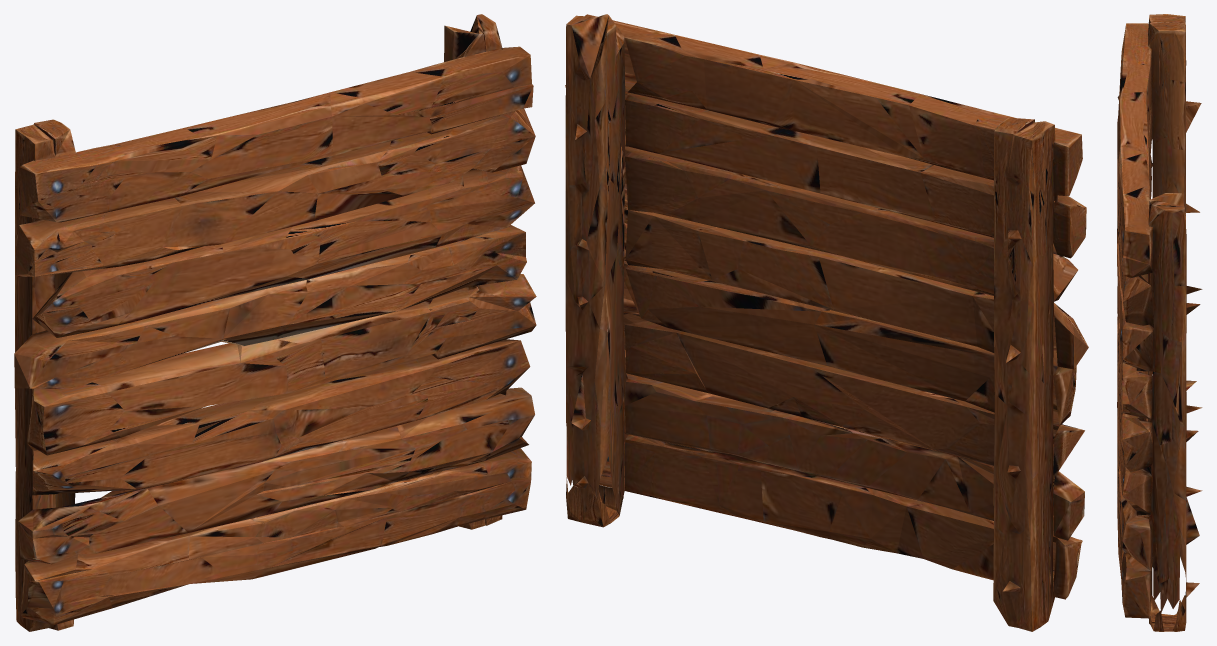
File: fence_tall.glb
3 renders of one model, left to right at view 1: azimuth 30°, elevation 25°; view 2: azimuth 150°, elevation 25°; view 3: azimuth 270°, elevation 25°, orthographic. The views are drawn at different scales.
Visible parts, largest first — view 1: tripo_part_7, tripo_part_3, tripo_part_0, tripo_part_1, tripo_part_4, tripo_part_8, tripo_part_5, tripo_part_6, tripo_part_2; view 2: tripo_part_3, tripo_part_2, tripo_part_7, tripo_part_0, tripo_part_4, tripo_part_1, tripo_part_5, tripo_part_6, tripo_part_8, tripo_part_9; view 3: tripo_part_3, tripo_part_7, tripo_part_2, tripo_part_5, tripo_part_1, tripo_part_4, tripo_part_0, tripo_part_6, tripo_part_8, tripo_part_9.
Boxes of the visible parts, bbox=[...] form: tripo_part_7: bbox=[19, 46, 533, 222]; tripo_part_3: bbox=[18, 14, 534, 564]; tripo_part_0: bbox=[21, 448, 531, 625]; tripo_part_1: bbox=[27, 274, 536, 455]; tripo_part_4: bbox=[15, 108, 535, 276]; tripo_part_8: bbox=[32, 339, 530, 495]; tripo_part_5: bbox=[32, 165, 534, 337]; tripo_part_6: bbox=[14, 225, 526, 388]; tripo_part_2: bbox=[15, 119, 75, 631]; tripo_part_3: bbox=[565, 14, 1084, 540]; tripo_part_2: bbox=[993, 117, 1065, 631]; tripo_part_7: bbox=[585, 14, 1082, 195]; tripo_part_0: bbox=[599, 433, 1082, 599]; tripo_part_4: bbox=[565, 85, 1086, 258]; tripo_part_1: bbox=[623, 255, 1076, 430]; tripo_part_5: bbox=[624, 146, 1077, 301]; tripo_part_6: bbox=[624, 199, 1088, 369]; tripo_part_8: bbox=[623, 313, 1084, 478]; tripo_part_9: bbox=[566, 477, 624, 527]; tripo_part_3: bbox=[1117, 193, 1202, 612]; tripo_part_7: bbox=[1117, 23, 1152, 278]; tripo_part_2: bbox=[1148, 14, 1202, 413]; tripo_part_5: bbox=[1117, 155, 1154, 371]; tripo_part_1: bbox=[1117, 274, 1152, 475]; tripo_part_4: bbox=[1117, 91, 1153, 327]; tripo_part_0: bbox=[1117, 473, 1152, 618]; tripo_part_6: bbox=[1117, 179, 1152, 419]; tripo_part_8: bbox=[1117, 375, 1152, 515]; tripo_part_9: bbox=[1148, 592, 1186, 631].
Bounding box in the file's own units: 0.9766 × 0.9062 × 0.1668.
Materials: 10 (10 with a texture image).
